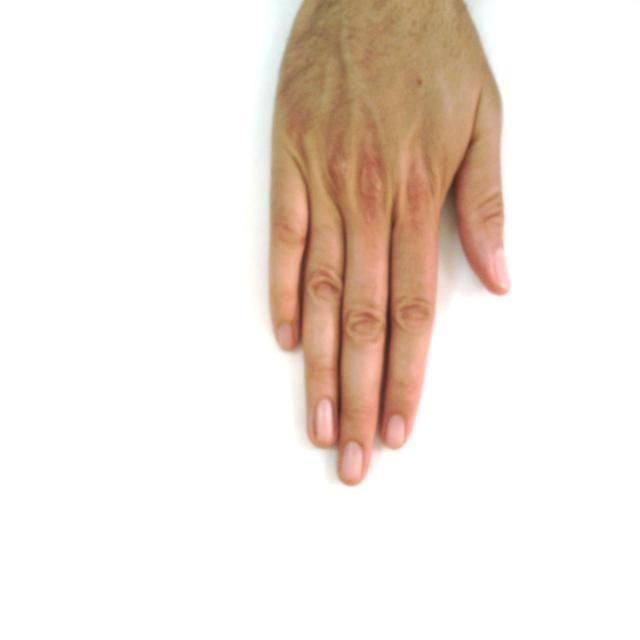Fingernail: (341, 442, 364, 484), (315, 400, 334, 443), (385, 416, 405, 449), (495, 250, 511, 289), (277, 325, 293, 349)
